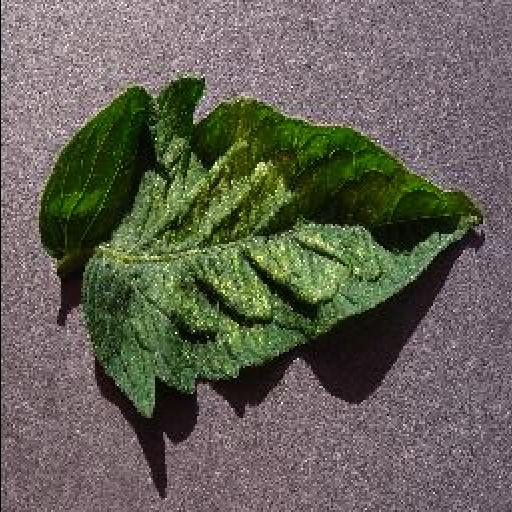disease_tomato: (37, 78, 483, 416)
